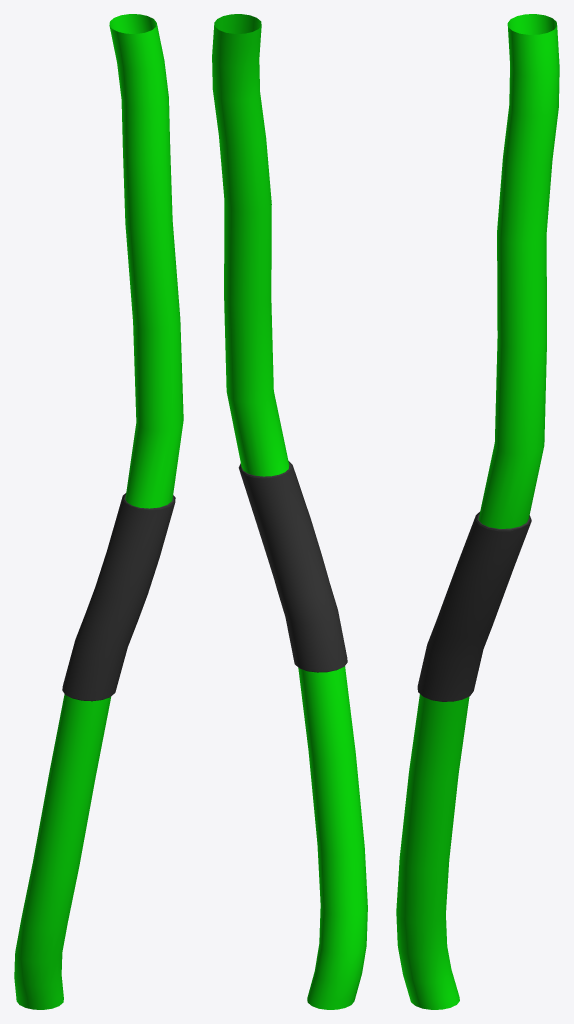
The model's file is wire_repaired_1.gltf.
3 views of the same model, side by side, from view 1: azimuth 30°, elevation 25°; view 2: azimuth 150°, elevation 25°; view 3: azimuth 330°, elevation 25° (orthographic). The views are drawn at different scales.
Visible parts, largest first — view 1: wire_fixed_1c.002; view 2: wire_fixed_1c.002; view 3: wire_fixed_1c.002.
Boxes of the visible parts, x1=… form: wire_fixed_1c.002: x1=14, y1=14, x2=183, y2=1009; wire_fixed_1c.002: x1=212, y1=14, x2=367, y2=1009; wire_fixed_1c.002: x1=396, y1=14, x2=559, y2=1009.
Size of the model in its own units: 0.255 by 1.56 by 0.1442.
